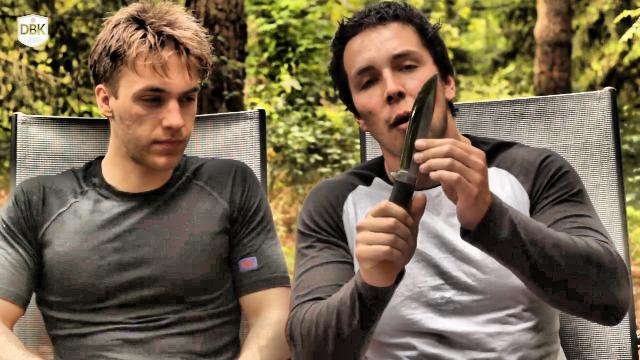knife: (368, 63, 448, 243)
